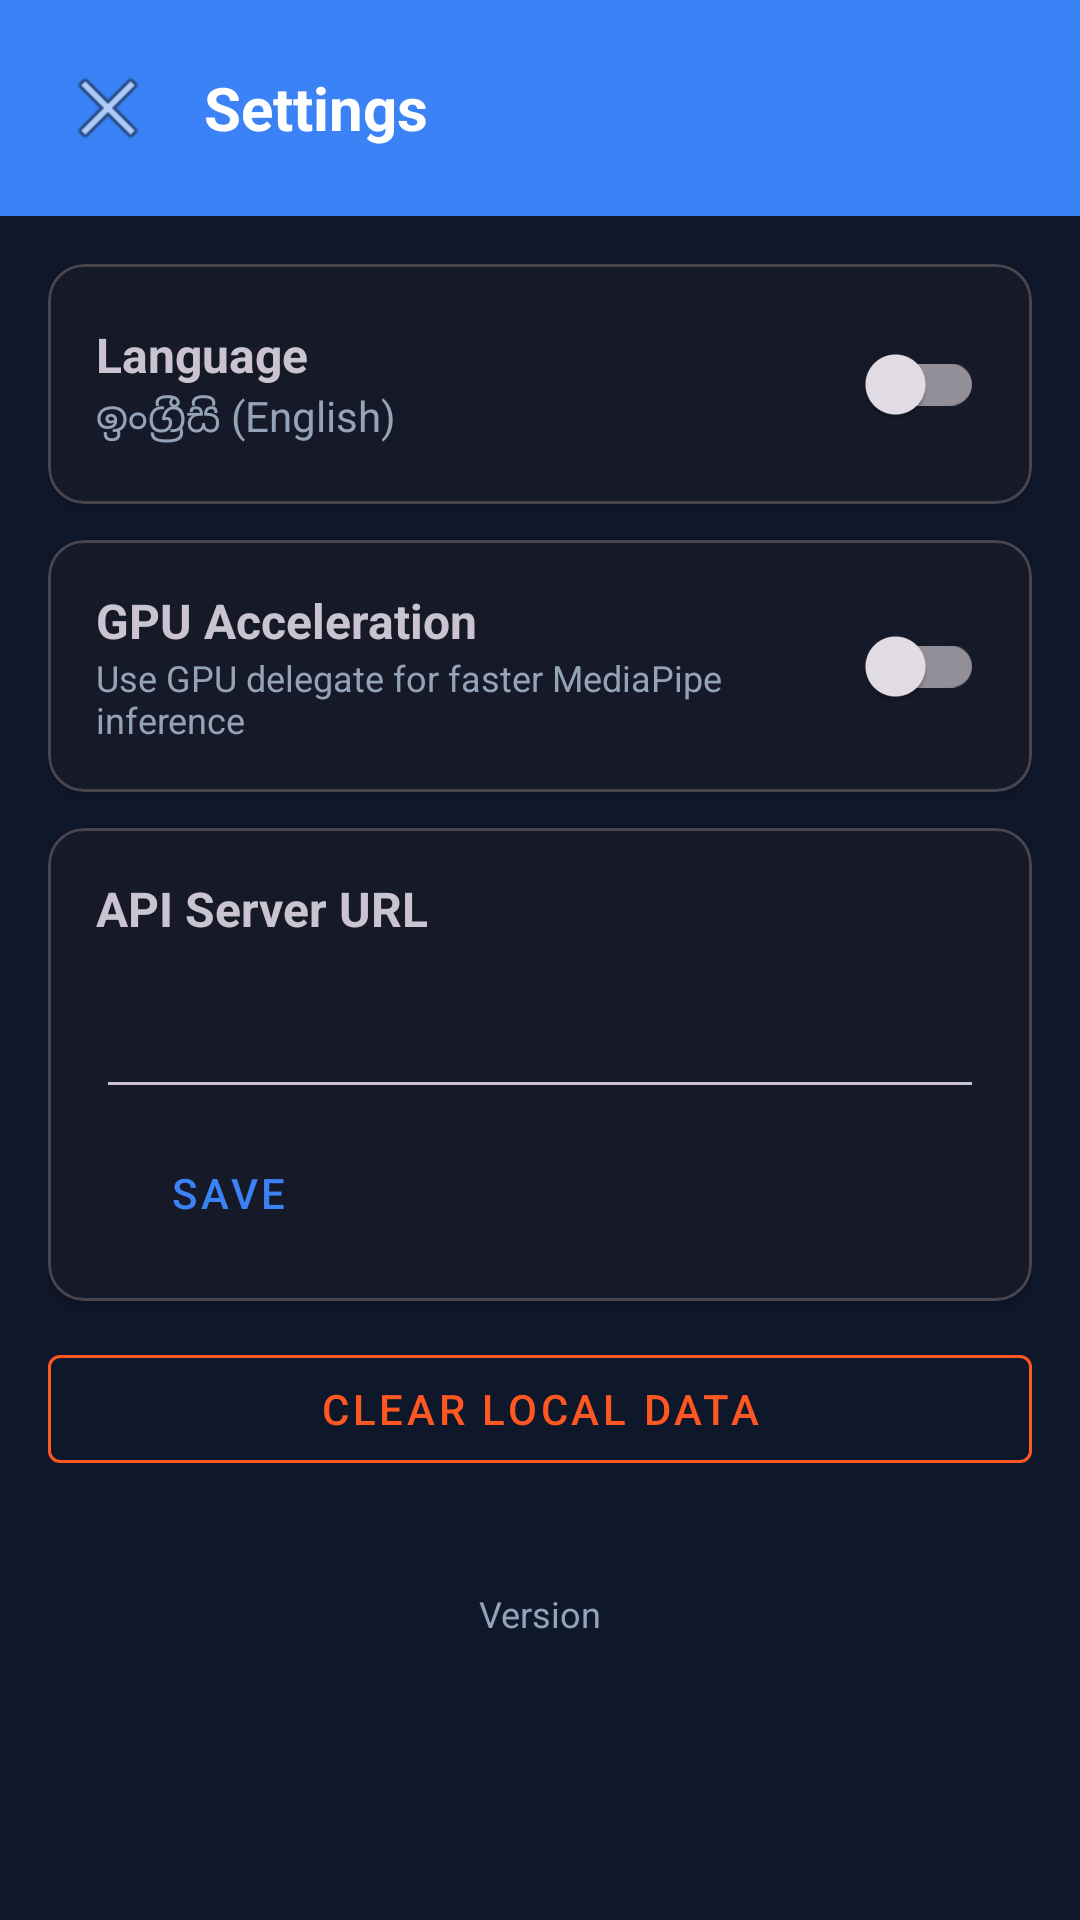

Icons on this 1080w x 1920h Android screen, each with the point to tap as (x,y):
Back: (108,108)
